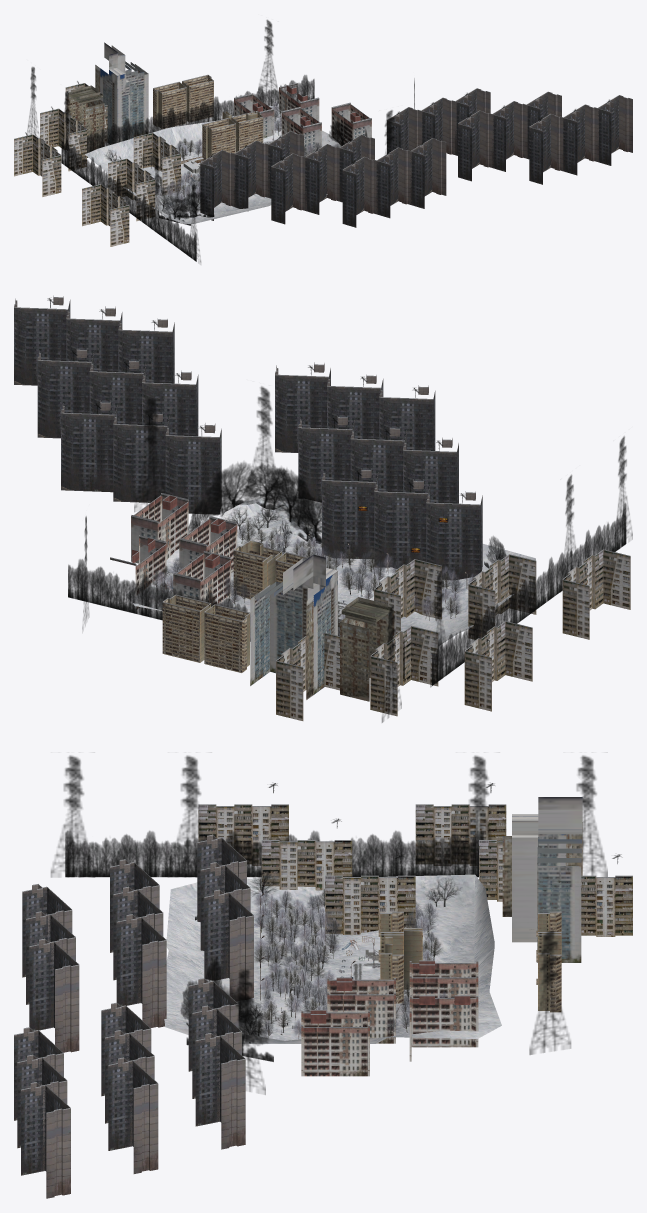
Rendered from snowy_street.glb.
3 renders of one model, top to bottom at view 1: azimuth 30°, elevation 25°; view 2: azimuth 150°, elevation 25°; view 3: azimuth 270°, elevation 25°, orthographic. The views are drawn at different scales.
Visible parts, largest first — view 1: ussr_building, building_005, backdrop, building_006, snow, building, building_003, transmission, trees_001, trees; view 2: ussr_building, building_005, building_006, snow, backdrop, building_003, building, trees, transmission, trees_001, building_004; view 3: ussr_building, snow, building_005, building_003, building_006, backdrop, trees_001, transmission, building, trees, building_004, snow_001.
Boxes of the visible parts, x1,y1,x2,y2 form: ussr_building: (200, 88, 632, 227); building_005: (14, 81, 180, 246); backdrop: (61, 75, 314, 261); building_006: (67, 42, 148, 157); snow: (85, 105, 340, 223); building: (153, 74, 263, 160); building_003: (234, 83, 371, 156); transmission: (27, 20, 414, 263); trees_001: (140, 102, 321, 202); trees: (104, 121, 367, 225); ussr_building: (14, 295, 482, 580); building_005: (276, 549, 630, 720); building_006: (250, 554, 394, 701); snow: (126, 494, 535, 644); backdrop: (68, 503, 626, 685); building_003: (110, 493, 237, 609); building: (162, 542, 308, 672); trees: (188, 462, 506, 568); transmission: (82, 386, 632, 722); trees_001: (150, 520, 475, 621); building_004: (247, 540, 275, 589); ussr_building: (14, 834, 253, 1198); snow: (164, 874, 501, 1041); building_005: (198, 783, 632, 936); building_003: (301, 960, 478, 1076); building_006: (502, 797, 582, 962); backdrop: (65, 831, 483, 877); trees_001: (253, 889, 454, 1038); transmission: (51, 755, 607, 1094); building: (378, 911, 561, 1012); trees: (180, 872, 461, 1061); building_004: (385, 928, 422, 989); snow_001: (165, 947, 501, 1043).
Bounding box in the file's own units: 471 × 86.45 × 333.
Materials: 45 (45 with a texture image).
